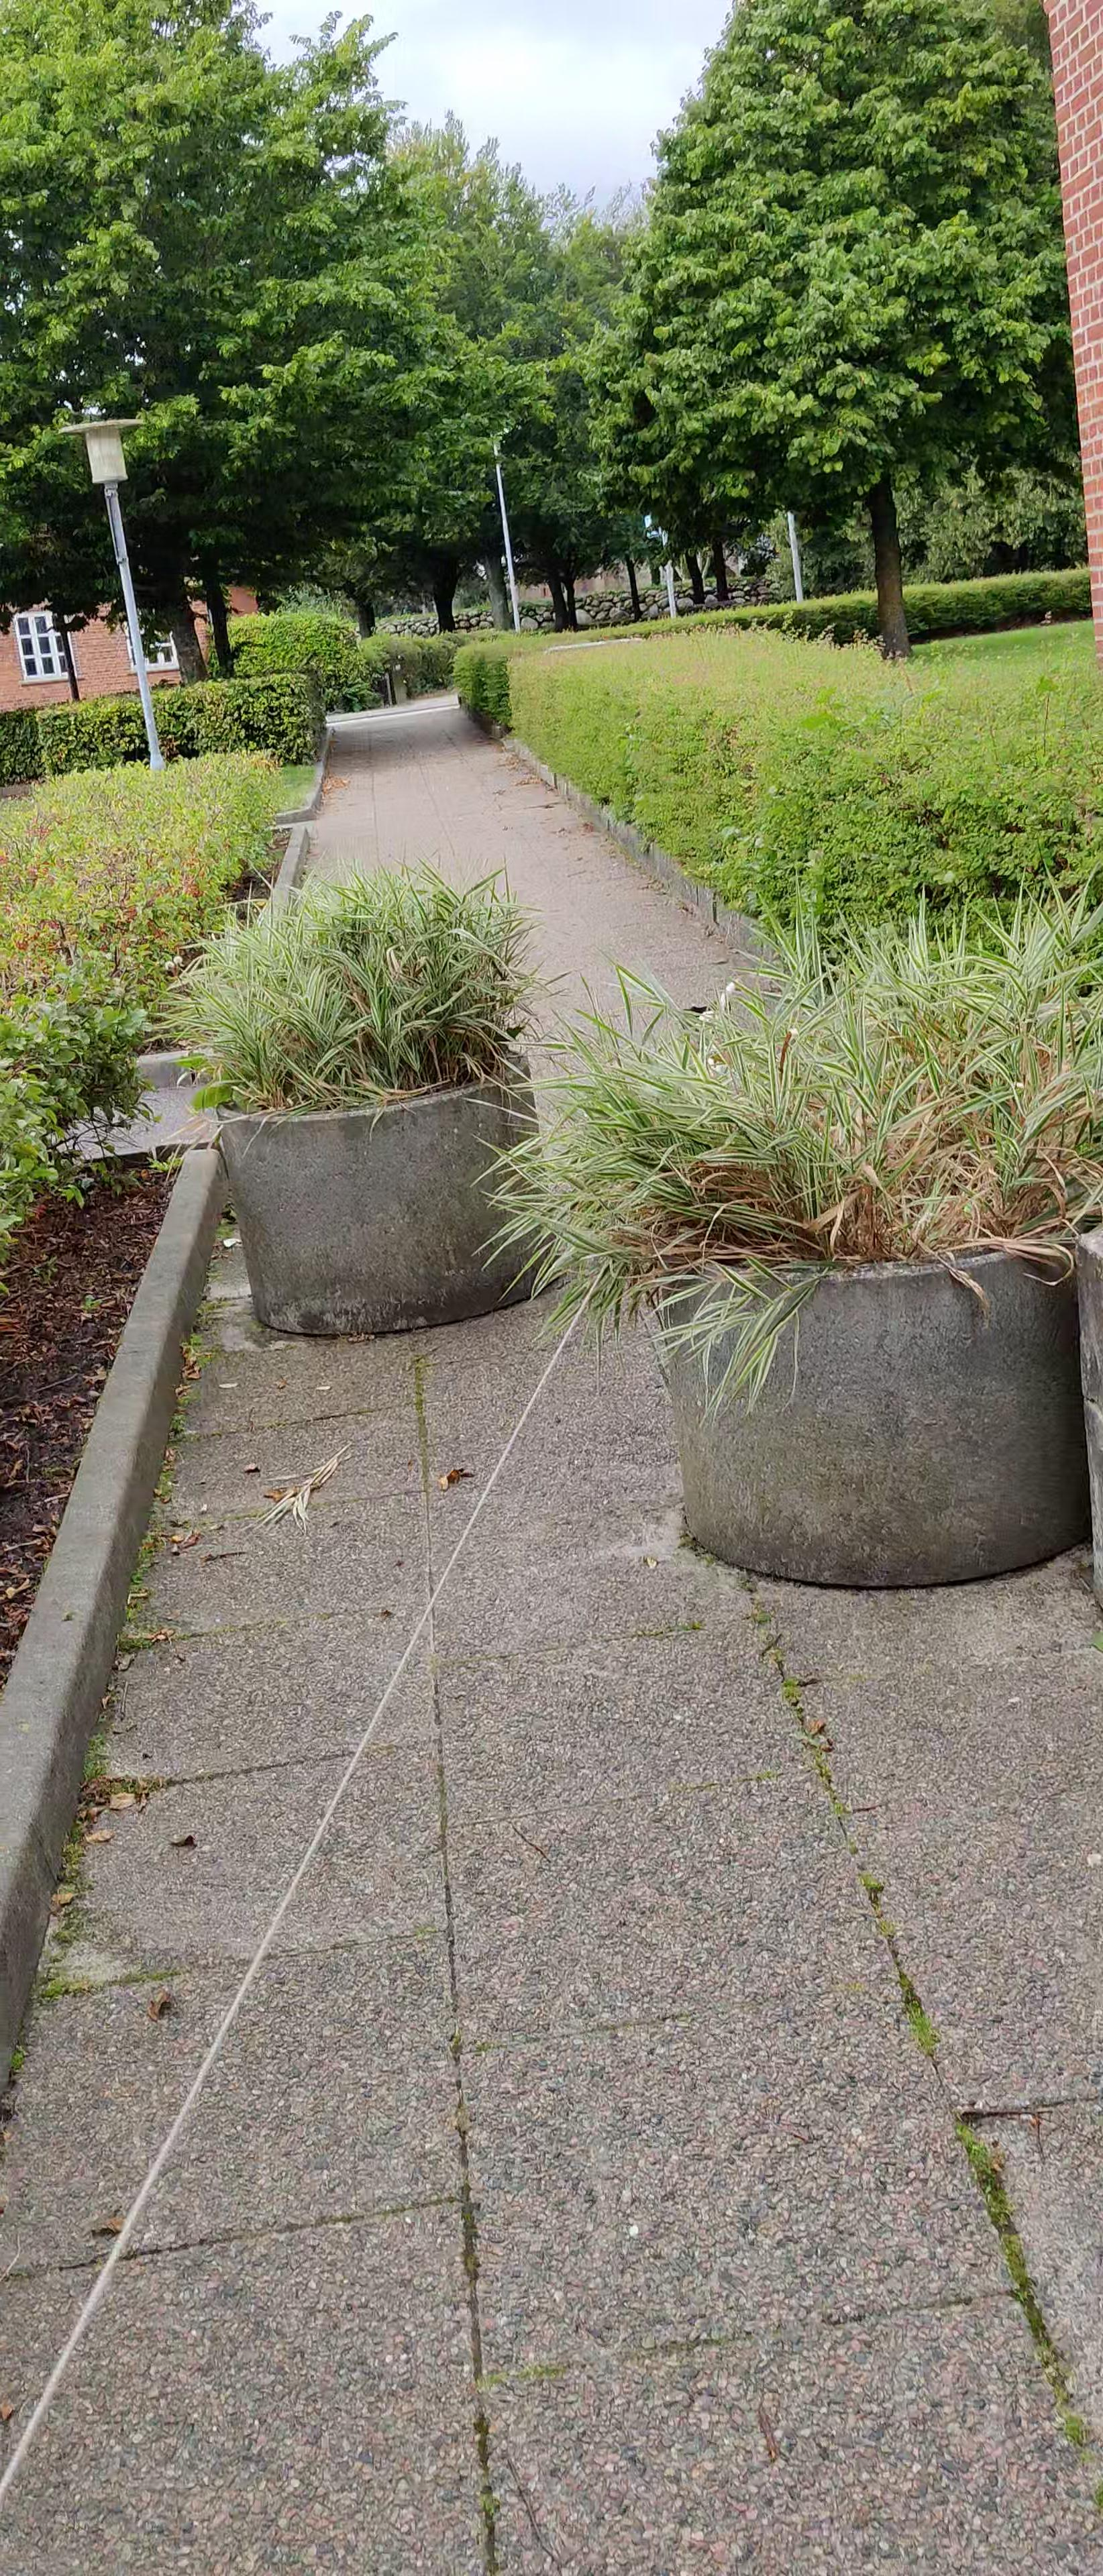Dog: (687, 974, 755, 1086)
